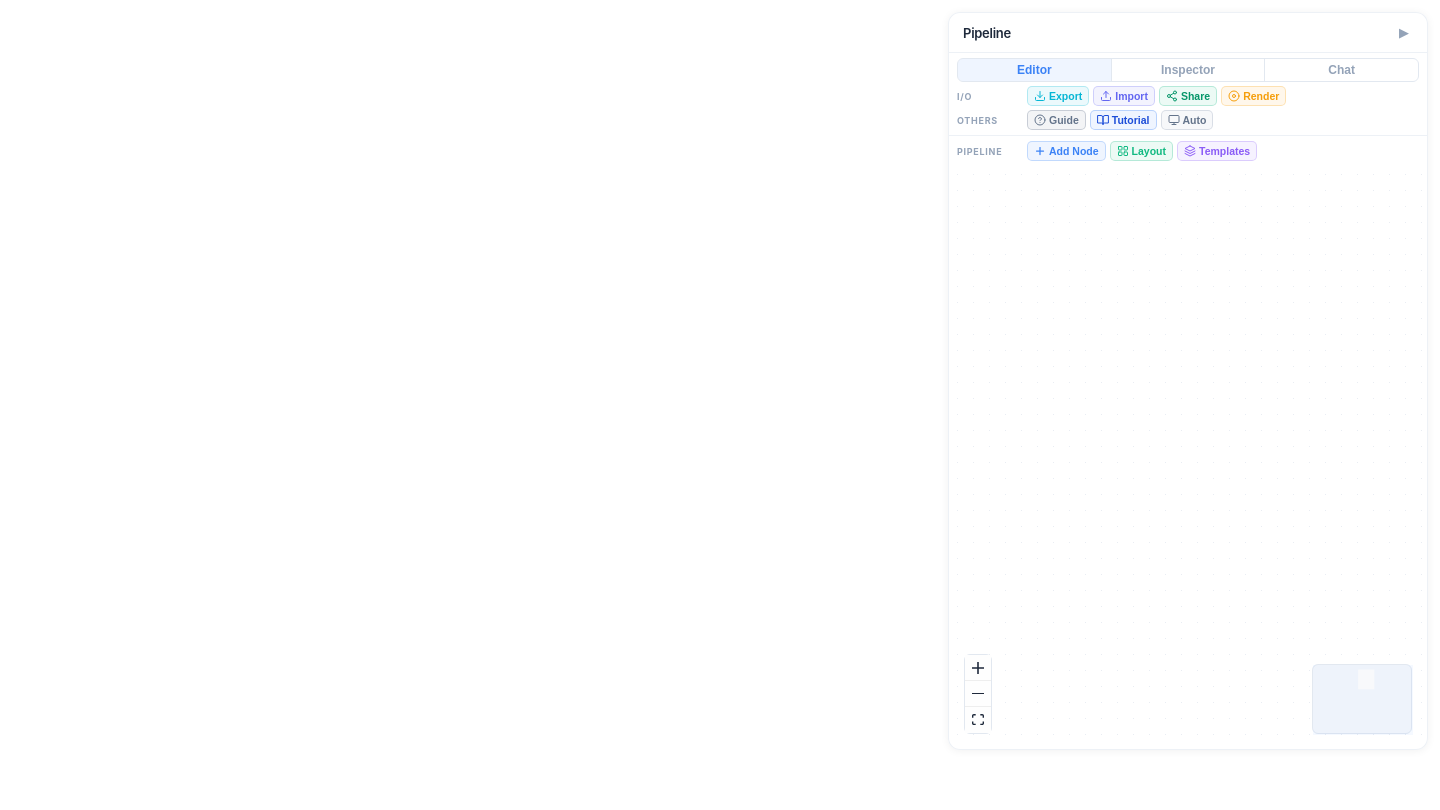
Test case: PipelineEditor — Share button opens dialog › opens the share dialog with the URL when shareCurrentPipeline resolves
This screenshot has width=1440, height=810.
Click the button with test id "pipeline-editor-share" at (1188, 96), box [1159, 86, 1217, 106]
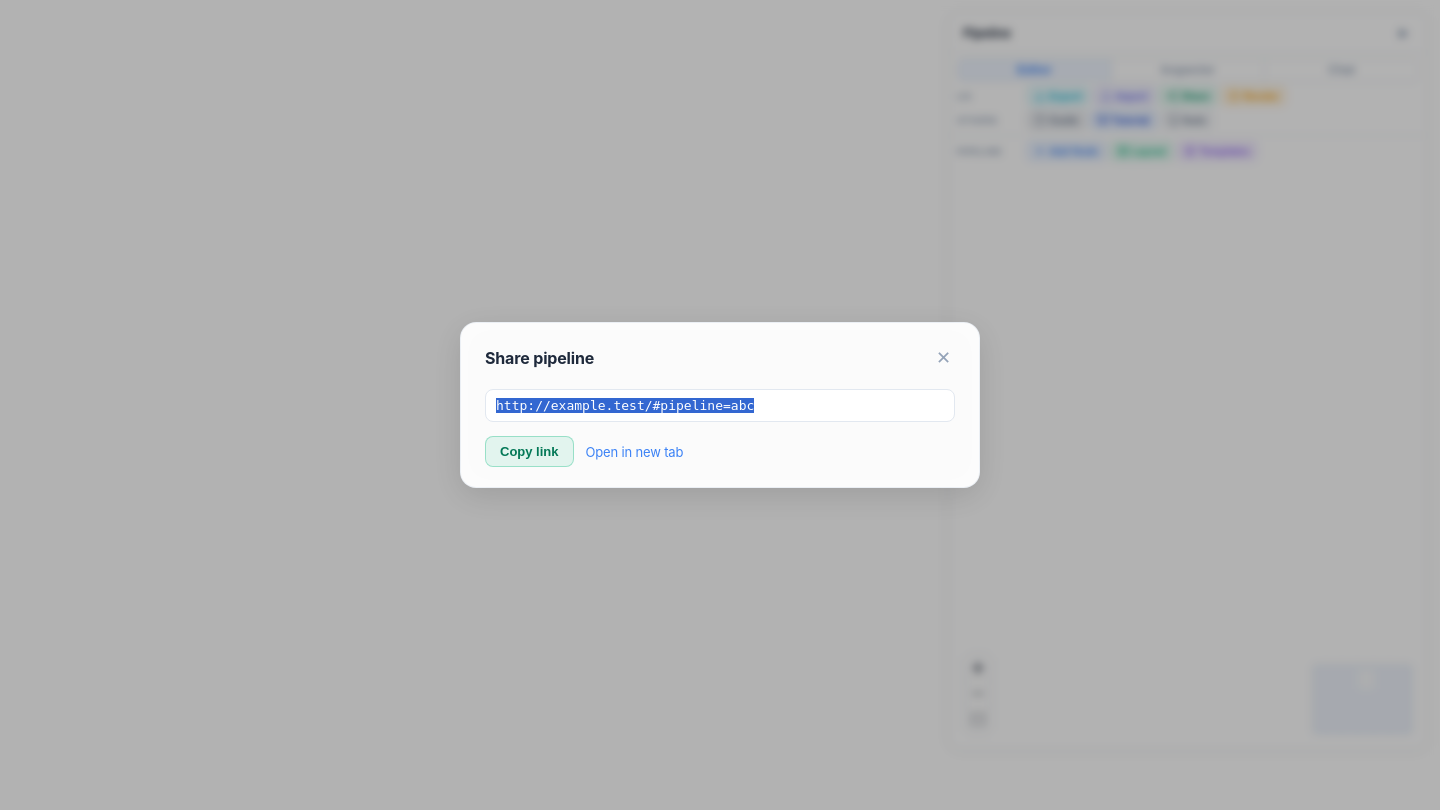
Check: the field with test id "share-dialog-url-input" holds "http://example.test/#pipeline=abc", box [485, 389, 955, 422]
